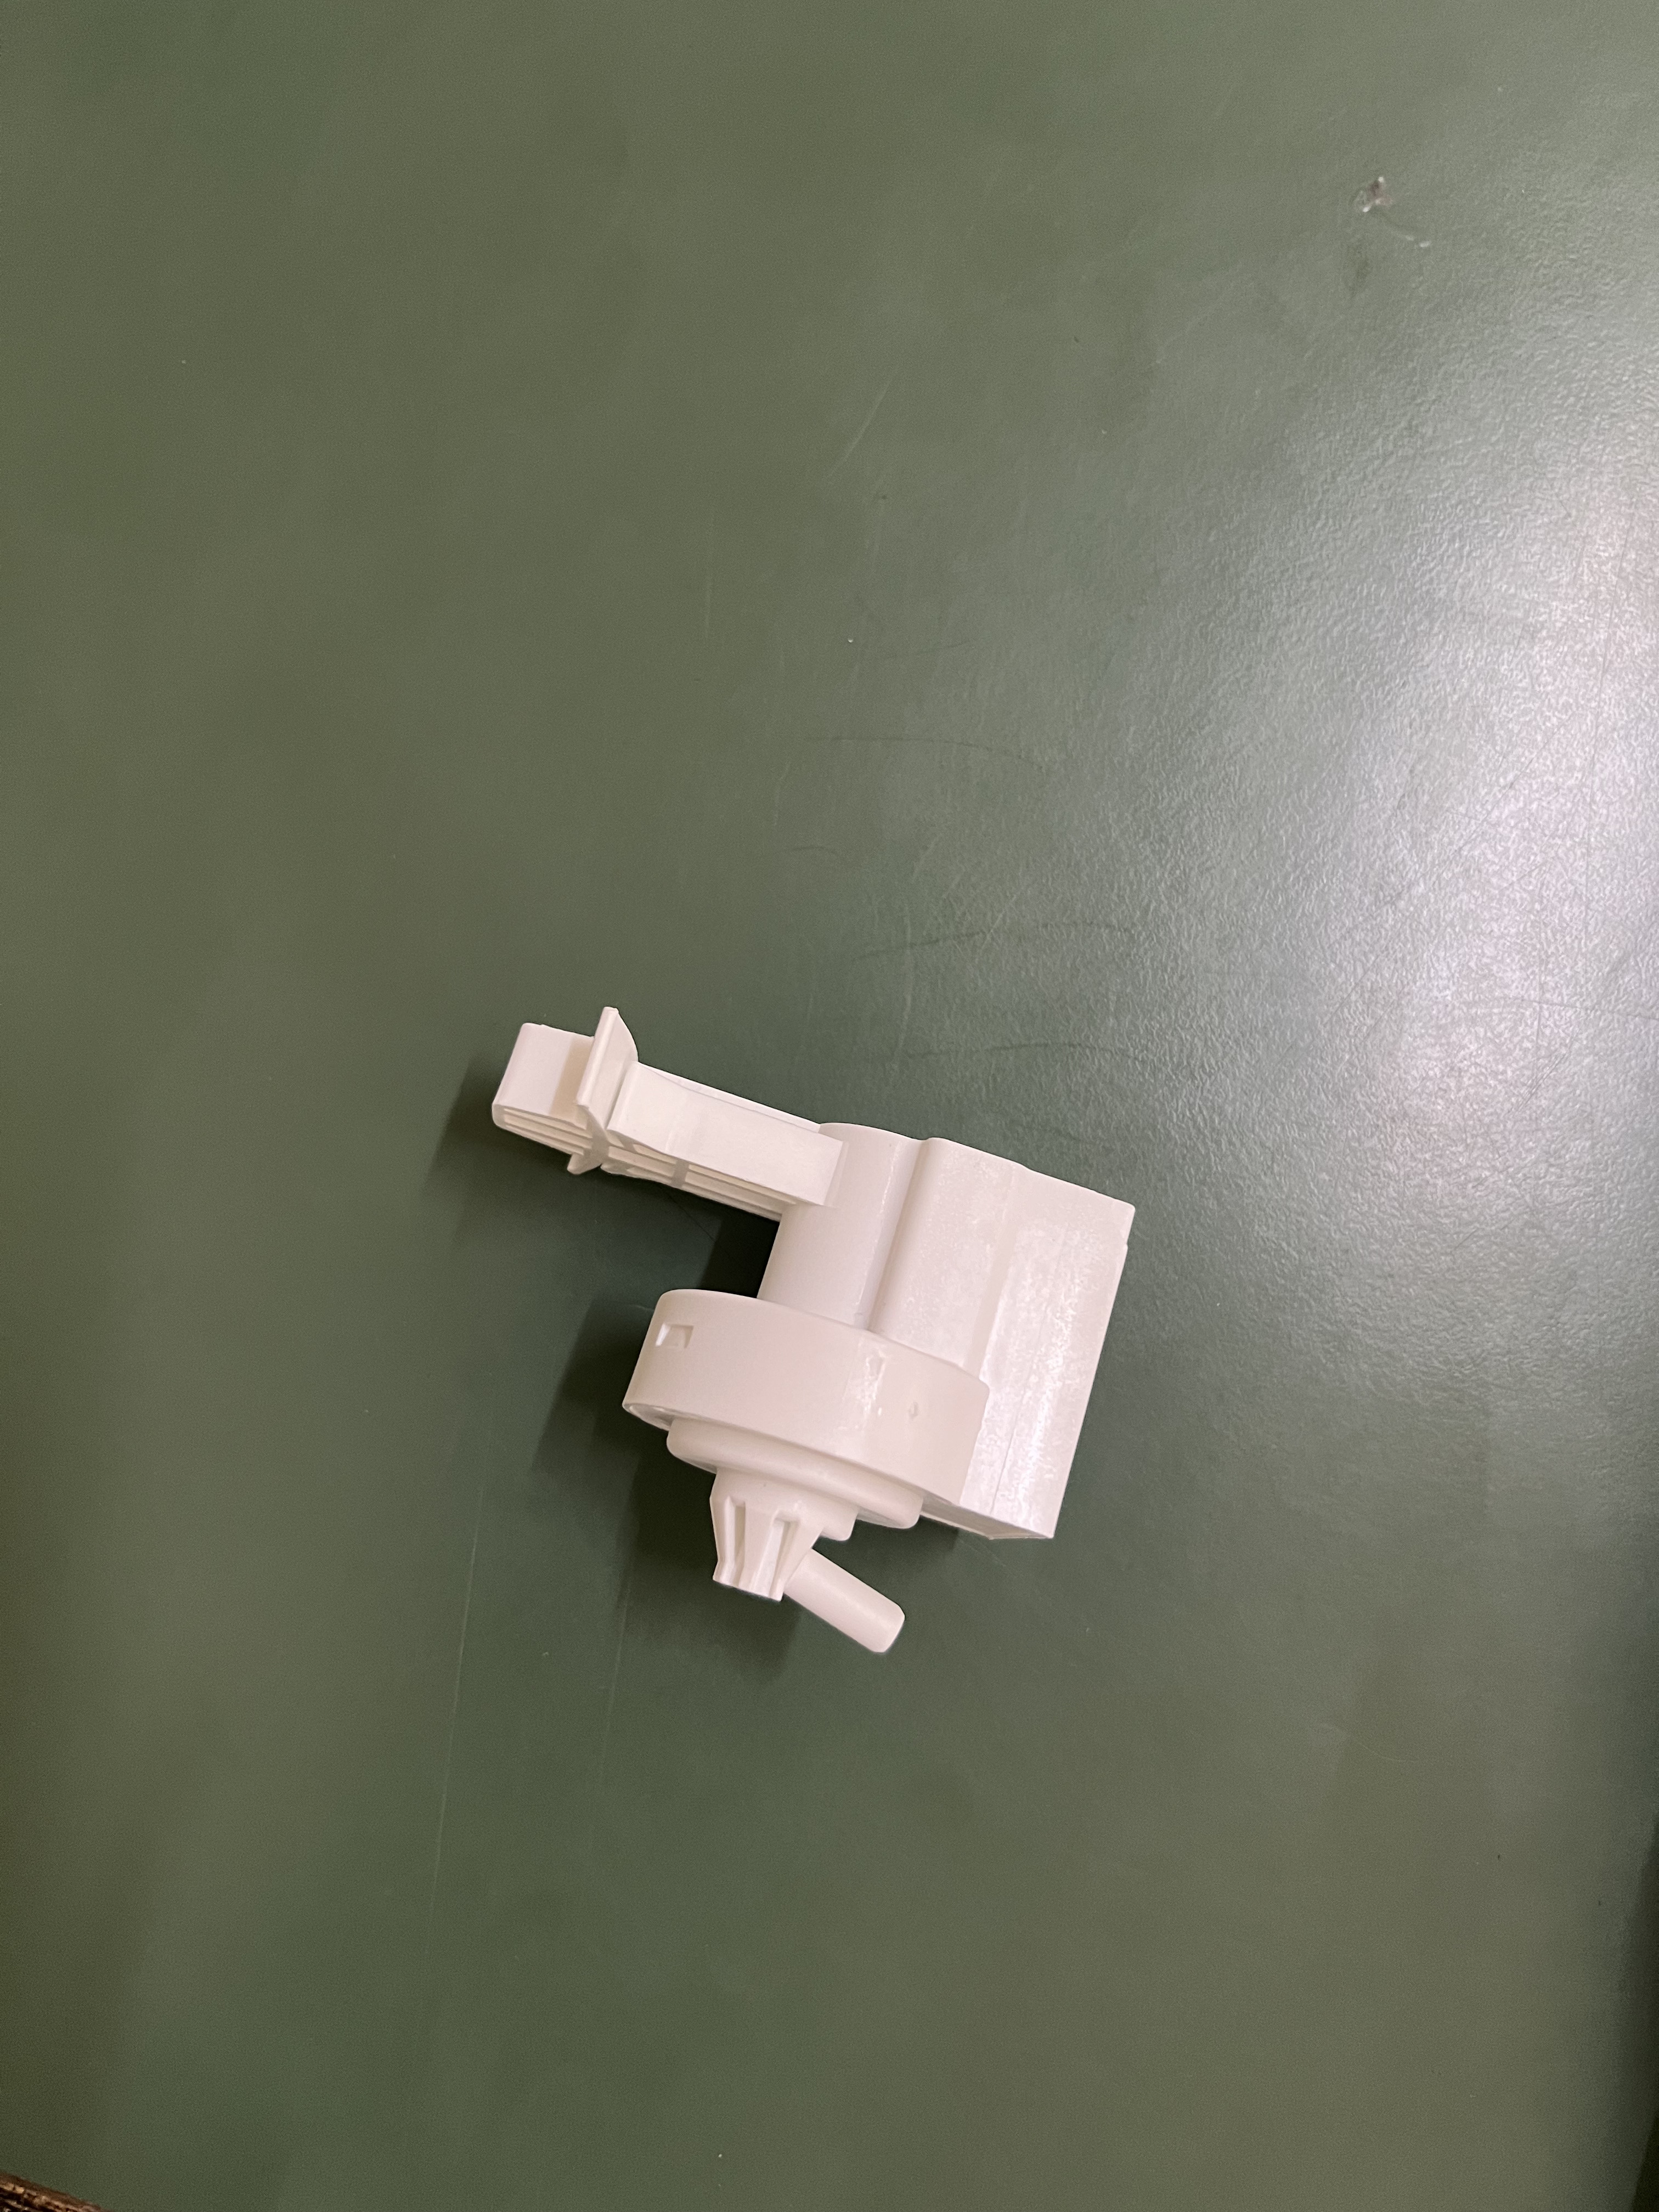pressure_switch_1: (472, 998, 1140, 1681)
